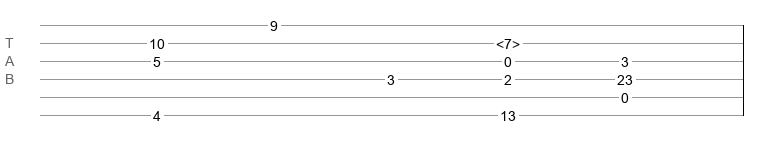0: (504, 54, 512, 64), (621, 90, 629, 100)
10: (149, 36, 165, 46)
13: (500, 108, 516, 118)
2: (504, 72, 512, 82)
23: (617, 72, 633, 82)
3: (387, 72, 395, 82), (621, 54, 629, 64)
4: (153, 108, 161, 118)
5: (153, 54, 161, 64)
9: (270, 18, 278, 28)
harmonic: (496, 36, 520, 46)
